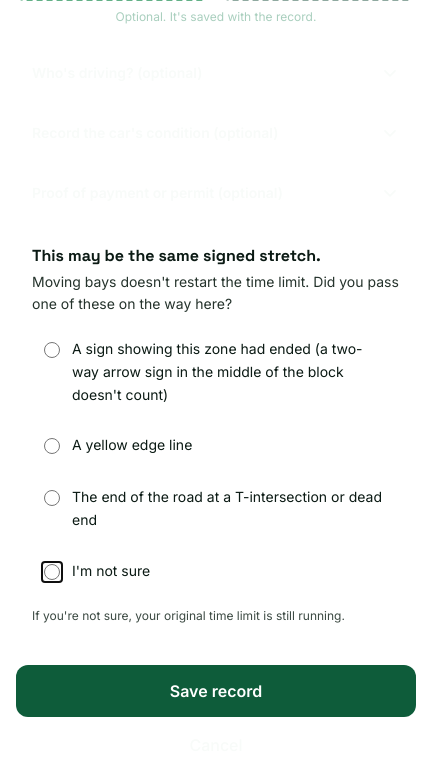
the boundary question › asks a few metres along the same road, in the spec words, and blocks Save until answered
The image size is (433, 778).
(page scrolled)
Expected: the element with test id "boundary-question" is shown, [16,228,416,641]
Expected: the text "This may be the same signed stretch." is shown, [32,244,321,266]
Click the button "Save record": [216, 691] box [16,665,416,717]
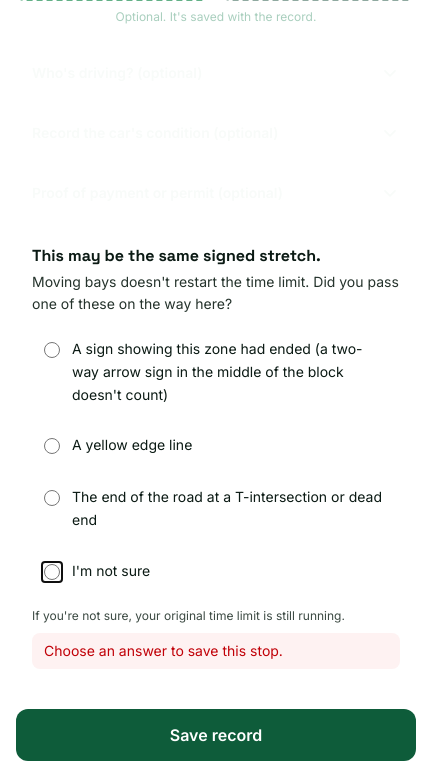
Now the message reads "Choose an answer to save this stop.", box [44,642,283,659]
